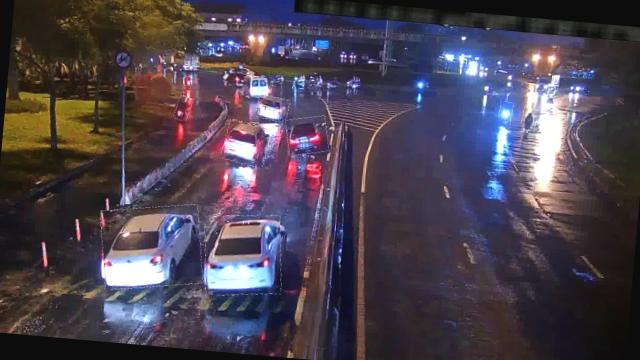Bike: (520, 108, 538, 134), (175, 96, 192, 121), (498, 102, 513, 130)
Bus: (242, 75, 272, 99)
Car: (96, 200, 206, 295), (200, 211, 286, 300), (222, 120, 272, 167), (284, 114, 330, 157), (254, 94, 290, 122)
